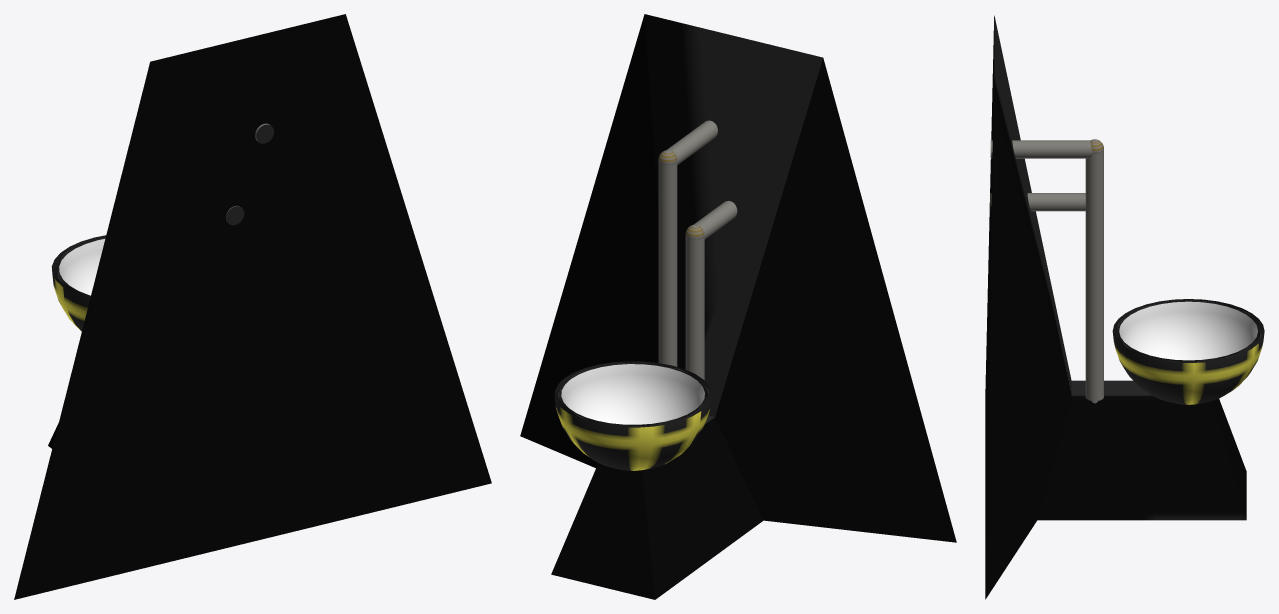
Rendered from core_holder.glb.
The picture shows the model from 3 angles, left to right: view 1: azimuth 30°, elevation 25°; view 2: azimuth 150°, elevation 25°; view 3: azimuth 270°, elevation 25°; orthographic projection. The views are drawn at different scales.
Parts seen in each view (by area): view 1: CoreHolder; view 2: CoreHolder; view 3: CoreHolder.
Boxes of the visible parts, x1,y1,x2,y2 form: CoreHolder: (14,14,491,599); CoreHolder: (520,14,956,599); CoreHolder: (985,15,1264,599).
Bounding box in the file's own units: 8.39 × 8.39 × 4.81.
Materials: 1 (1 with a texture image).
